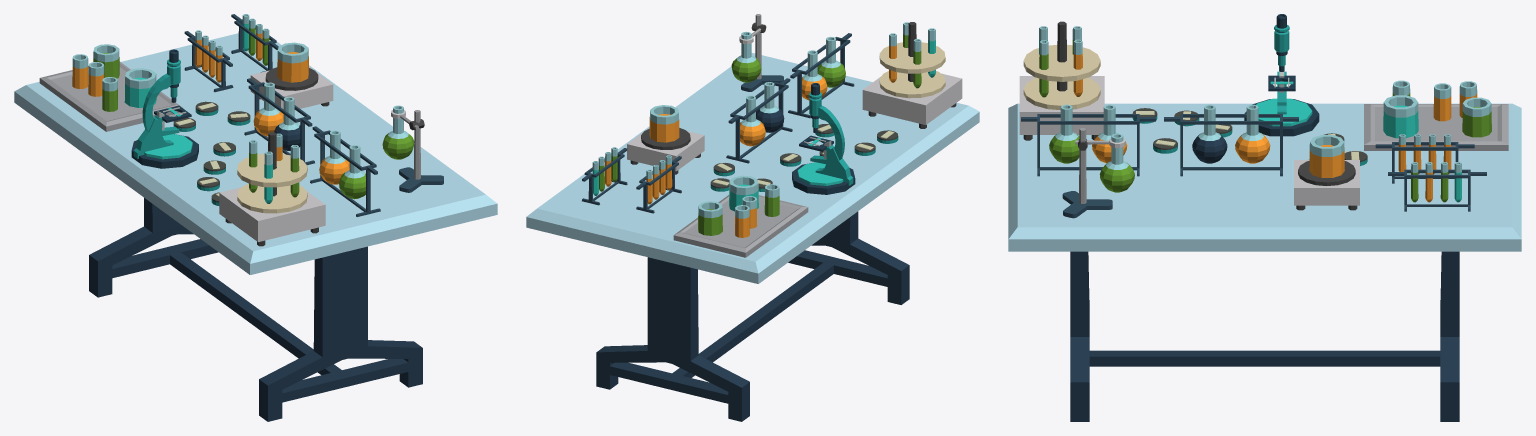
Rendered from Table4.fbx.
The picture shows the model from 3 angles, left to right: view 1: azimuth 30°, elevation 25°; view 2: azimuth 150°, elevation 25°; view 3: azimuth 270°, elevation 25°; orthographic projection. The views are drawn at different scales.
Parts seen in each view (by area): view 1: Cube.013_189, Cube.014_190, Cube.153_272, Cube.131_299, Circle.071_285, Circle.079_276, Circle.070_284, Cube.152_271, Cube.150_269, Circle.101_256, Cube.151_270, Circle.104_259 (+17 smaller); view 2: Cube.013_189, Cube.014_190, Cube.153_272, Cube.131_299, Cube.152_271, Circle.079_276, Circle.071_285, Circle.070_284, Cube.151_270, Circle.101_256, Cube.150_269, Circle.099_254 (+15 smaller); view 3: Cube.013_189, Cube.014_190, Cube.153_272, Cube.131_299, Circle.071_285, Cube.152_271, Circle.079_276, Circle.070_284, Cube.151_270, Cube.150_269, Circle.101_256, Circle.104_259 (+15 smaller).
Part boxes in pixels (x1,y1,x2,y2): Cube.013_189: (14,30,497,274); Cube.014_190: (89,198,422,421); Cube.153_272: (39,61,183,131); Cube.131_299: (219,187,325,242); Circle.071_285: (237,153,307,187); Circle.079_276: (131,134,198,168); Circle.070_284: (237,184,307,213); Cube.152_271: (250,67,333,108); Cube.150_269: (310,126,380,216); Circle.101_256: (277,42,308,82); Cube.151_270: (244,78,314,165); Circle.104_259: (124,68,156,107); Cube.013_189: (526,53,979,283); Cube.014_190: (596,211,909,421); Cube.153_272: (673,195,808,257); Cube.131_299: (862,73,962,124); Cube.152_271: (627,128,704,171); Circle.079_276: (792,162,855,194); Circle.071_285: (879,42,945,73); Circle.070_284: (879,71,945,98); Cube.151_270: (726,78,792,163); Circle.101_256: (649,105,679,142); Cube.150_269: (788,33,854,118); Circle.099_254: (731,31,761,82); Cube.013_189: (1008,103,1521,251); Cube.014_190: (1070,251,1459,421); Cube.153_272: (1364,104,1508,150); Cube.131_299: (1019,76,1104,134); Circle.071_285: (1023,44,1100,81); Cube.152_271: (1294,160,1359,205); Circle.079_276: (1244,98,1319,136); Circle.070_284: (1023,77,1100,110); Cube.151_270: (1164,114,1298,176); Cube.150_269: (1021,114,1155,176); Circle.101_256: (1309,135,1344,177); Circle.104_259: (1383,95,1418,138).
Bounding box in the file's own units: 54.59 × 63.04 × 90.09.
